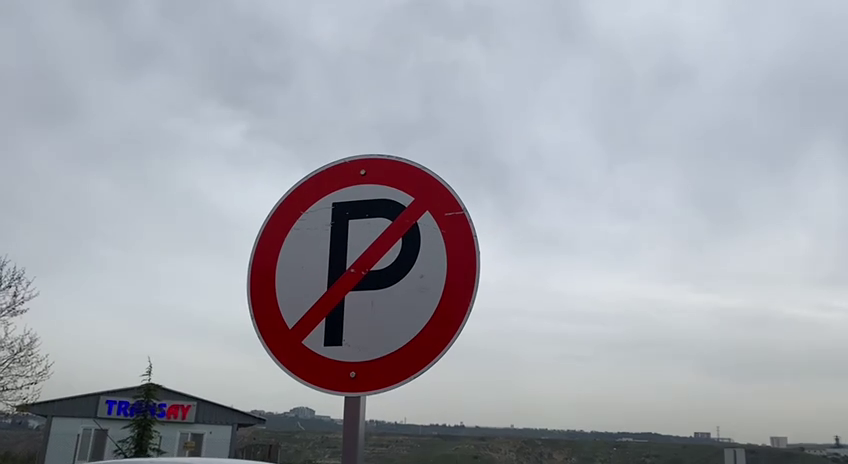noparking: (239, 145, 485, 401)
